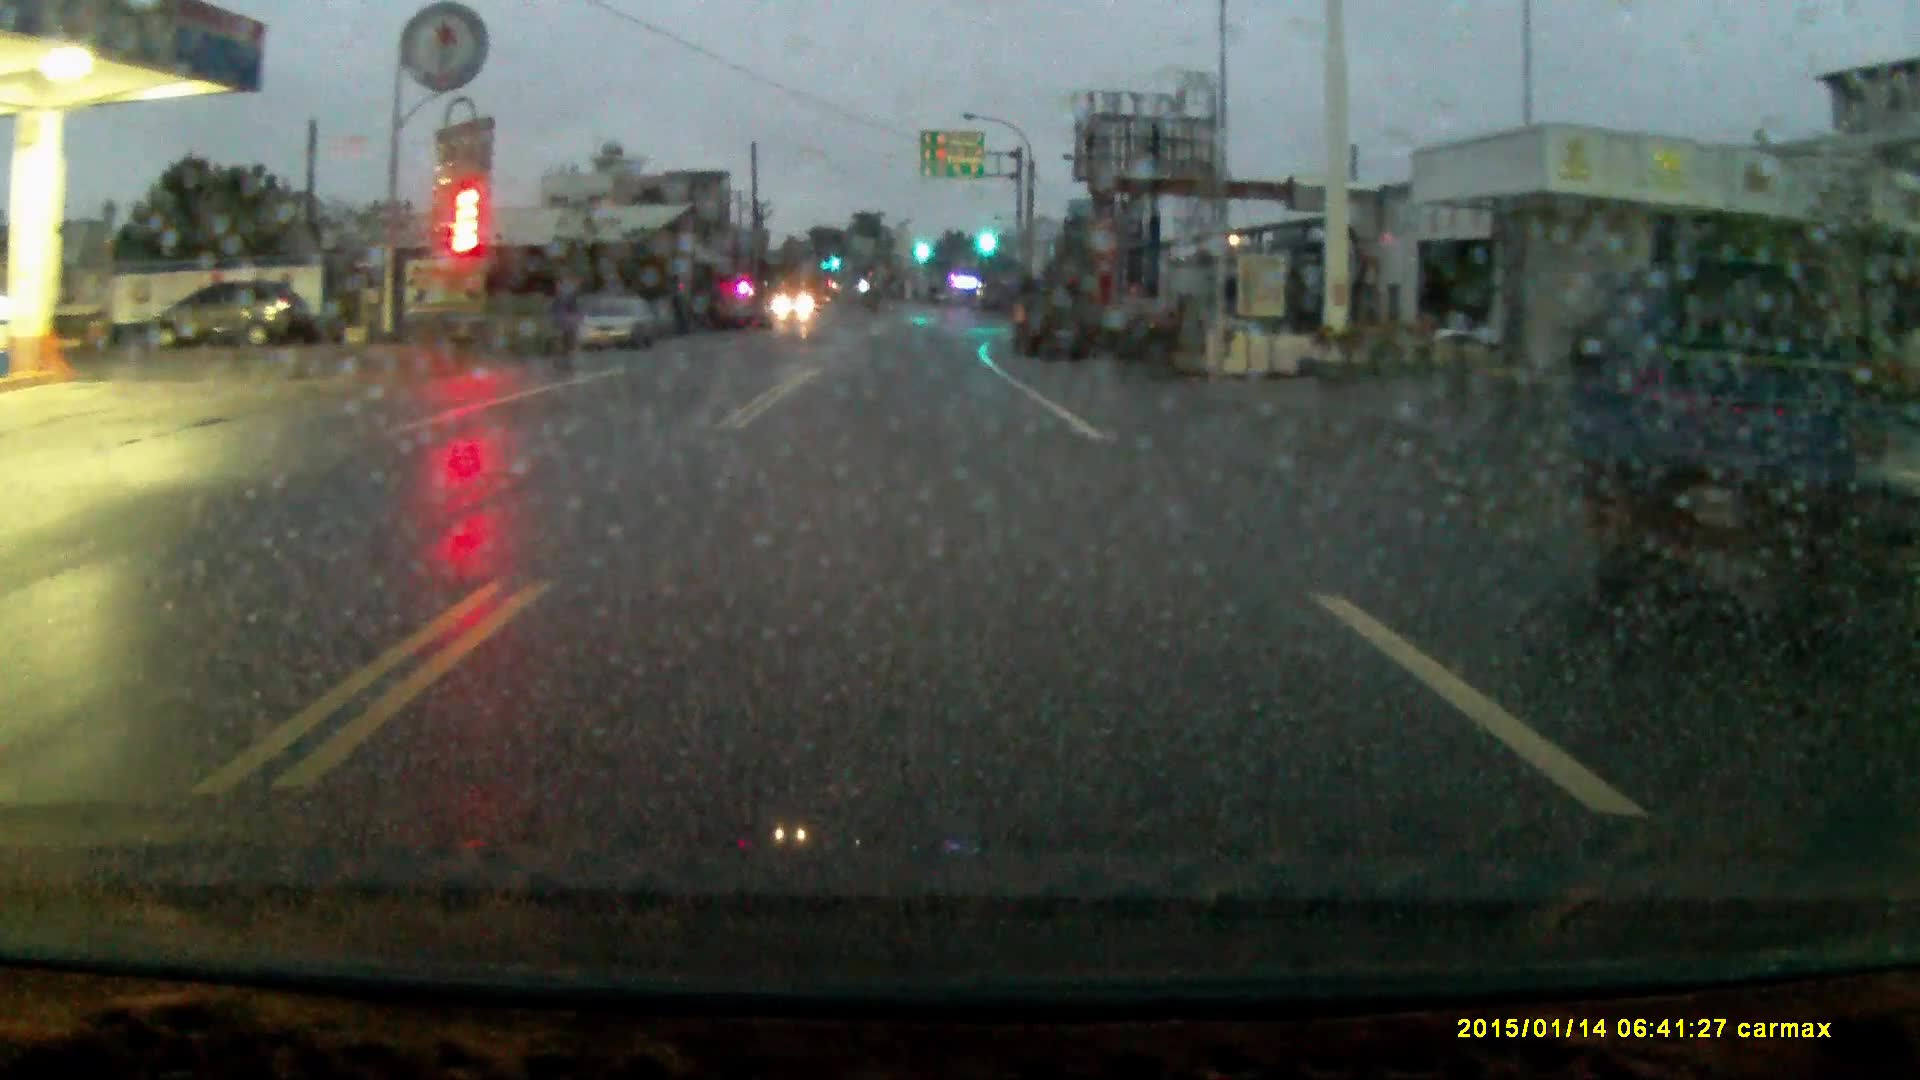rider: (536, 256, 591, 376)
vehicle: (1596, 262, 1879, 577), (141, 280, 313, 349), (1008, 268, 1103, 365), (574, 298, 677, 355)
